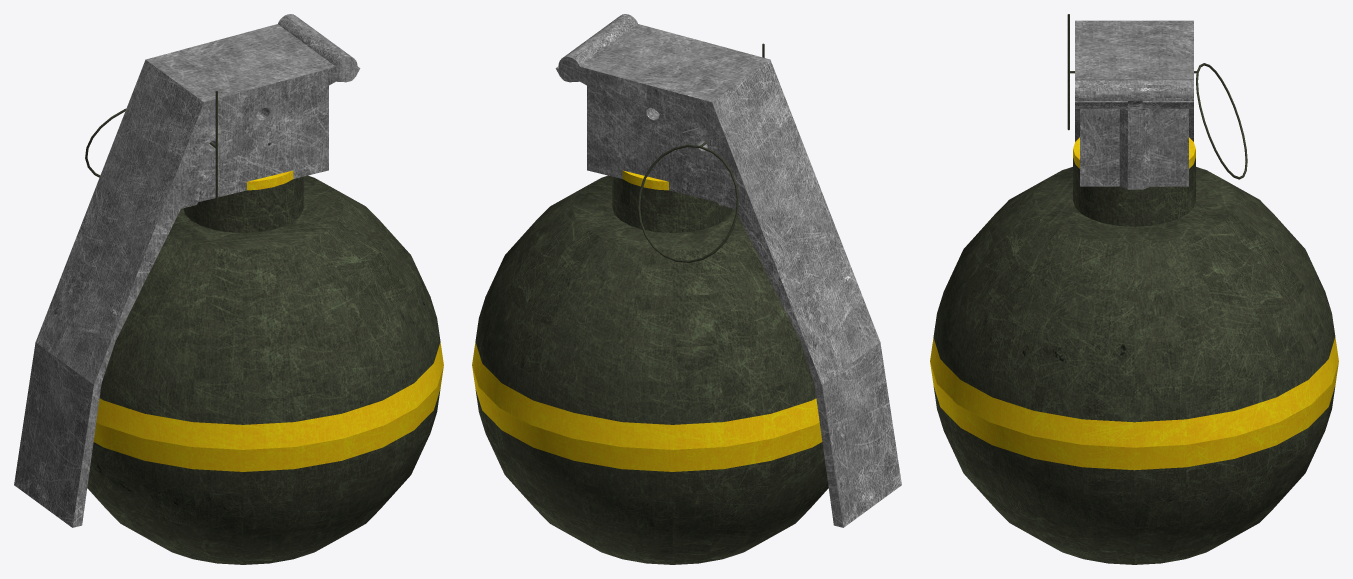
File: M67 Frag Grenade.fbx
The picture shows the model from 3 angles, left to right: view 1: azimuth 30°, elevation 25°; view 2: azimuth 150°, elevation 25°; view 3: azimuth 270°, elevation 25°; orthographic projection.
Visible parts, largest first — view 1: Grenade1, Ring1; view 2: Grenade1, Ring1; view 3: Grenade1, Ring1.
Part boxes in pixels (left/top/right/bottom): Grenade1: left=14, top=14, right=443, bottom=564; Ring1: left=85, top=91, right=217, bottom=204; Grenade1: left=472, top=14, right=901, bottom=564; Ring1: left=637, top=43, right=764, bottom=262; Grenade1: left=930, top=20, right=1338, bottom=564; Ring1: left=1067, top=14, right=1247, bottom=179.
Size of the model in its own units: 145 by 182 by 134.
